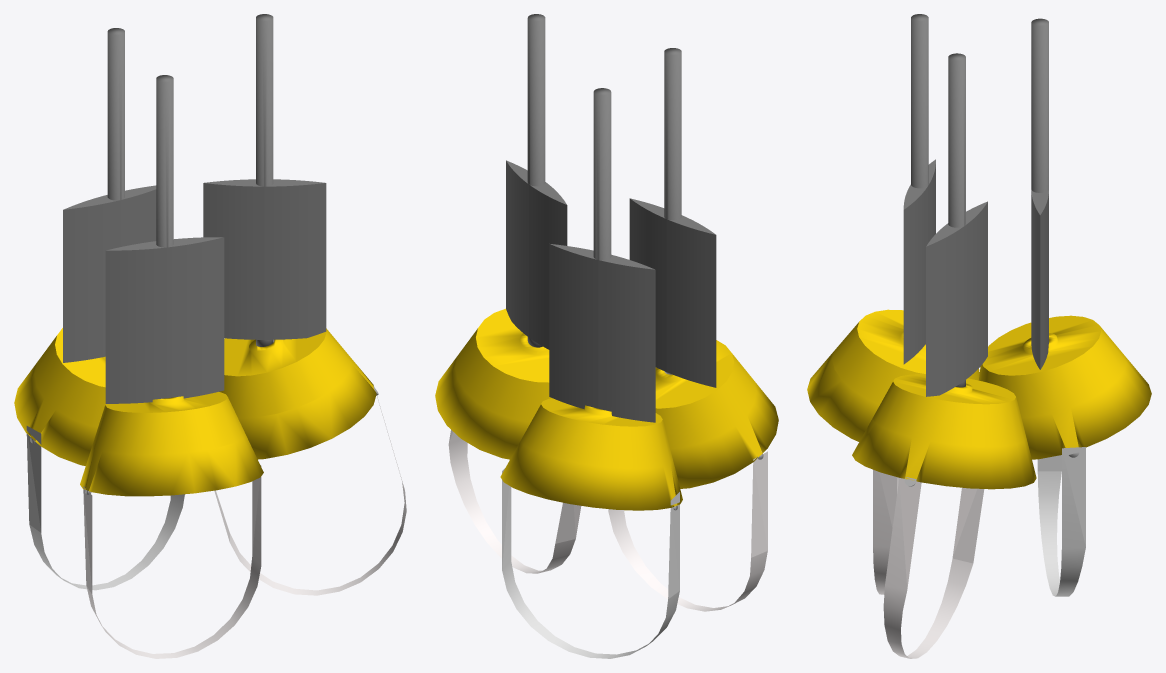
Rendered from OxygenMasks.fbx.
The picture shows the model from 3 angles, left to right: view 1: azimuth 30°, elevation 25°; view 2: azimuth 150°, elevation 25°; view 3: azimuth 270°, elevation 25°; orthographic projection.
Parts seen in each view (by area): view 1: Group_002, Group_007, Group_003, Group_008, Group_001, Group_005, Group_004, Group_009, Group_006; view 2: Group_001, Group_005, Group_002, Group_007, Group_008, Group_003, Group_004, Group_009, Group_006; view 3: Group_008, Group_005, Group_007, Group_003, Group_002, Group_006, Group_001, Group_009, Group_004.
Boxes of the visible parts, left/top/right/bottom form: Group_002: left=105, top=75, right=224, bottom=403; Group_007: left=203, top=14, right=326, bottom=346; Group_003: left=80, top=392, right=263, bottom=496; Group_008: left=219, top=328, right=376, bottom=459; Group_001: left=63, top=28, right=156, bottom=362; Group_005: left=14, top=328, right=105, bottom=465; Group_004: left=83, top=465, right=261, bottom=658; Group_009: left=26, top=426, right=184, bottom=590; Group_006: left=214, top=386, right=406, bottom=595; Group_001: left=549, top=88, right=655, bottom=422; Group_005: left=500, top=398, right=682, bottom=510; Group_002: left=629, top=48, right=716, bottom=387; Group_007: left=506, top=14, right=567, bottom=349; Group_008: left=435, top=308, right=551, bottom=459; Group_003: left=655, top=340, right=778, bottom=488; Group_004: left=608, top=451, right=767, bottom=611; Group_009: left=502, top=468, right=679, bottom=658; Group_006: left=448, top=430, right=581, bottom=573; Group_008: left=852, top=374, right=1036, bottom=489; Group_005: left=979, top=315, right=1151, bottom=459; Group_007: left=926, top=53, right=987, bottom=396; Group_003: left=807, top=309, right=979, bottom=441; Group_002: left=903, top=14, right=935, bottom=364; Group_006: left=883, top=477, right=984, bottom=658; Group_001: left=1031, top=18, right=1048, bottom=369; Group_009: left=1037, top=447, right=1085, bottom=596; Group_004: left=873, top=469, right=899, bottom=594.
Bounding box in the file's own units: 10.36 × 18.34 × 9.71.
